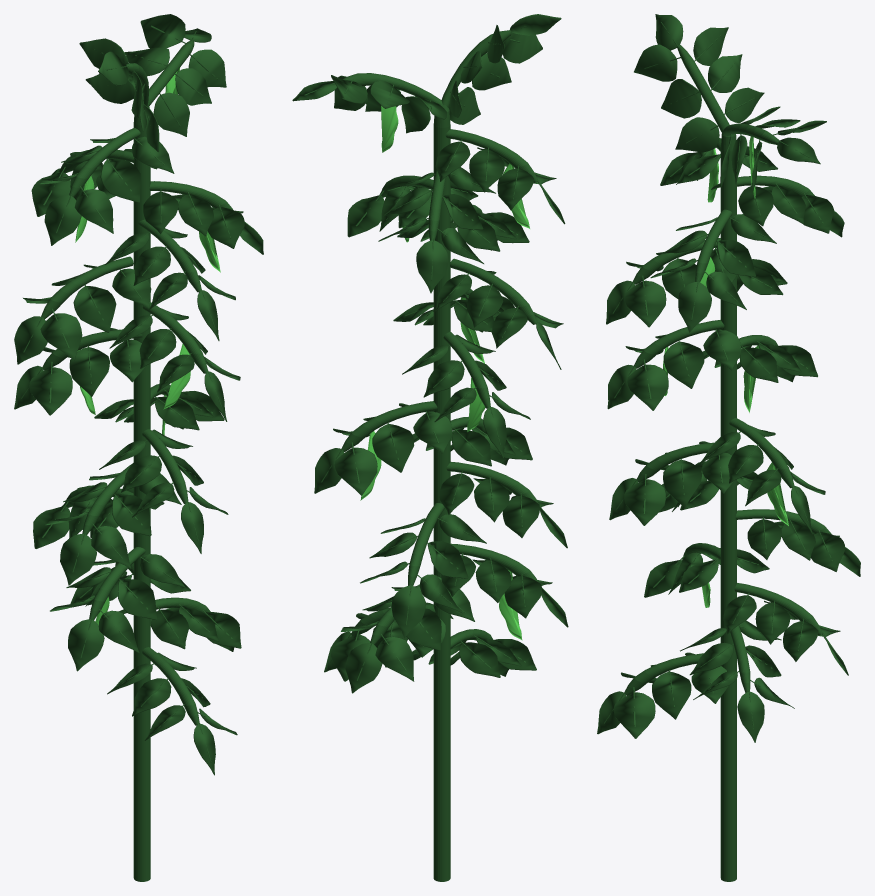
Rendered from beanstalk-with-beans.fbx.
3 views of the same model, side by side, from view 1: azimuth 30°, elevation 25°; view 2: azimuth 150°, elevation 25°; view 3: azimuth 270°, elevation 25° (orthographic). The views are drawn at different scales.
Visible parts, largest first — view 1: bean stalk, bean 4; view 2: bean stalk, bean 7; view 3: bean stalk.
Part boxes in pixels (x1,y1,x2,y2): bean stalk: (14,14,263,881); bean 4: (163,344,190,409); bean stalk: (292,14,568,881); bean 7: (381,105,398,152); bean stalk: (597,14,860,881).
Bounding box in the file's own units: 411 × 1488 × 428.
